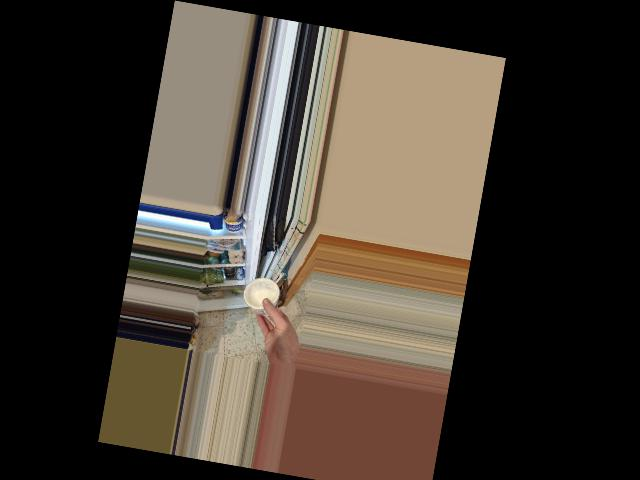cotage: (241, 270, 283, 320)
